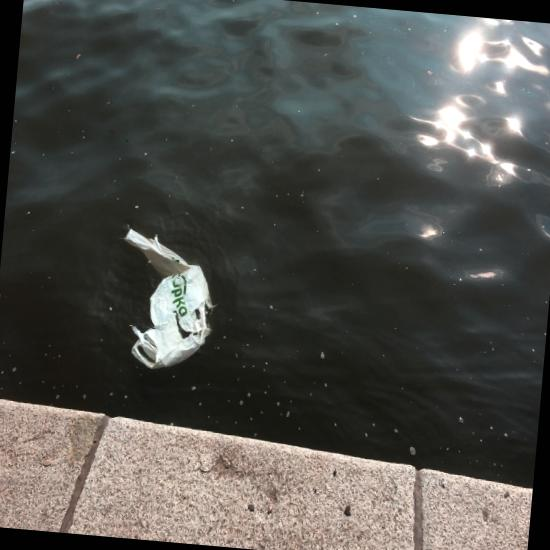Single-use carrier bag: (124, 228, 218, 368)
